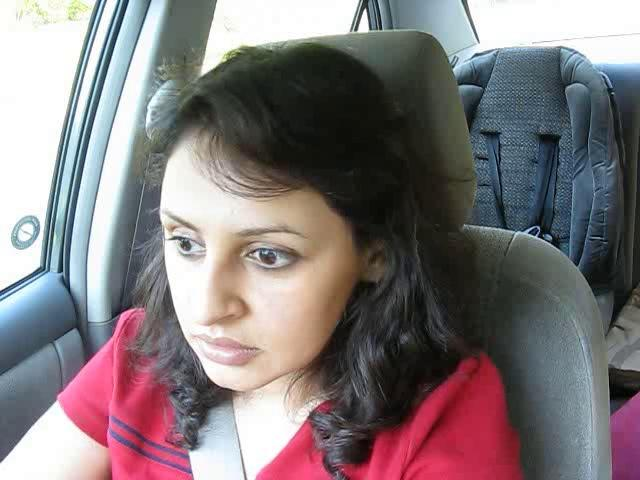no_yawn: (181, 328, 268, 370)
open_eyeL: (159, 224, 213, 264)
open_eyeR: (231, 234, 309, 281)
